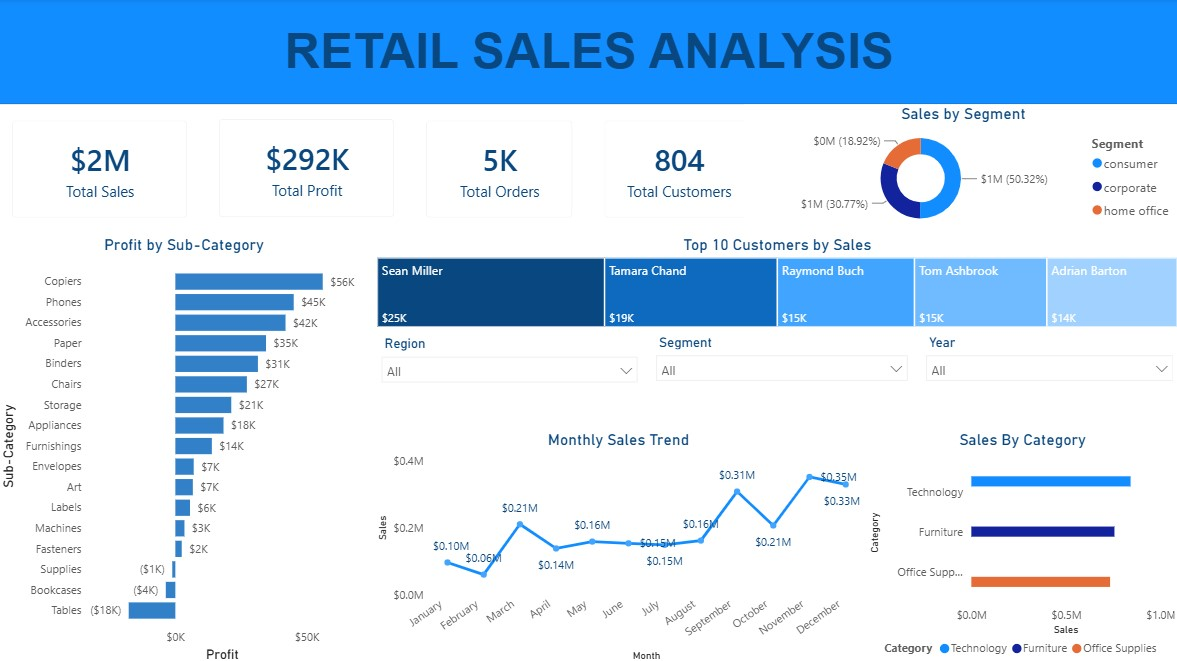

The page's visual inventory and layout, read from the dashboard file:
{"tool":"powerbi","page":{"name":"RSA-Dashboard","canvas":[1280,720],"ordinal":0},"visuals":[{"type":"cardVisual","fields":{"Data":["Sum(cleaned_orders.Sales)"]},"box":[0,115,223.5,139.3],"z":0},{"type":"cardVisual","fields":{"Data":["Sum(cleaned_orders.Profit)"]},"box":[223.5,113.3,223.5,140.9],"z":1000},{"type":"cardVisual","fields":{"Data":["cleaned_orders.Total Orders"]},"box":[446.9,115,192.7,139.3],"z":2000},{"type":"cardVisual","fields":{"Data":["Count(cleaned_orders.Customer ID)"]},"box":[639.6,115,194.3,139.3],"z":3000},{"type":"shape","box":[0,0,1280.8,115],"z":4000},{"type":"clusteredBarChart","title":"Sales By Category","fields":{"Y":["Sum(cleaned_orders.Sales)"],"Category":["cleaned_orders.Category"],"Series":["cleaned_orders.Category"]},"box":[888.2,466.8,391.2,253.2],"z":5000},{"type":"lineChart","title":"Monthly Sales Trend","fields":{"Category":["cleaned_orders.Month-Year.Variation.Date Hierarchy.Month"],"Y":["Sum(cleaned_orders.Sales)"]},"box":[406.3,466.8,481.9,253.2],"z":6000},{"type":"clusteredBarChart","fields":{"Y":["Sum(cleaned_orders.Profit)"],"Category":["cleaned_orders.Sub-Category"]},"box":[0,255.1,406.3,464.9],"z":7000},{"type":"donutChart","fields":{"Category":["cleaned_orders.Segment"],"Y":["Sum(cleaned_orders.Sales)"]},"box":[808,115,472.8,139.3],"z":8000},{"type":"treemap","title":"Top 5 Customers by Sales","fields":{"Group":["cleaned_orders.Customer Name"],"Values":["Sum(cleaned_orders.Sales)"]},"box":[406.4,255.8,874.4,103.6],"z":9000},{"type":"slicer","fields":{"Values":["cleaned_orders.Region"]},"box":[406.4,359.5,296.3,103.6],"z":10000},{"type":"slicer","fields":{"Values":["cleaned_orders.Segment"]},"box":[702.7,357.8,291.5,105.2],"z":11000},{"type":"slicer","fields":{"Values":["cleaned_orders.Month-Year.Variation.Date Hierarchy.Year"]},"box":[994.2,357.8,286.6,103.6],"z":12000}]}

Visuals, with their boxes in screenshot pixels (x1, y1, x2, y2), scaled from the page's 1280x720 canvas onto the 1177x661 screenshot:
cardVisual - Sum(cleaned_orders.Sales): [left=0, top=106, right=206, bottom=233]
cardVisual - Sum(cleaned_orders.Profit): [left=206, top=104, right=411, bottom=233]
cardVisual - cleaned_orders.Total Orders: [left=411, top=106, right=588, bottom=233]
cardVisual - Count(cleaned_orders.Customer ID): [left=588, top=106, right=767, bottom=233]
shape: [left=0, top=0, right=1176, bottom=106]
"Sales By Category" clusteredBarChart: [left=817, top=429, right=1176, bottom=660]
"Monthly Sales Trend" lineChart: [left=374, top=429, right=817, bottom=660]
clusteredBarChart - Sum(cleaned_orders.Profit) x cleaned_orders.Sub-Category: [left=0, top=234, right=374, bottom=660]
donutChart - cleaned_orders.Segment x Sum(cleaned_orders.Sales): [left=743, top=106, right=1176, bottom=233]
"Top 5 Customers by Sales" treemap: [left=374, top=235, right=1176, bottom=330]
slicer - cleaned_orders.Region: [left=374, top=330, right=646, bottom=425]
slicer - cleaned_orders.Segment: [left=646, top=328, right=914, bottom=425]
slicer - cleaned_orders.Month-Year.Variation.Date Hierarchy.Year: [left=914, top=328, right=1176, bottom=424]
